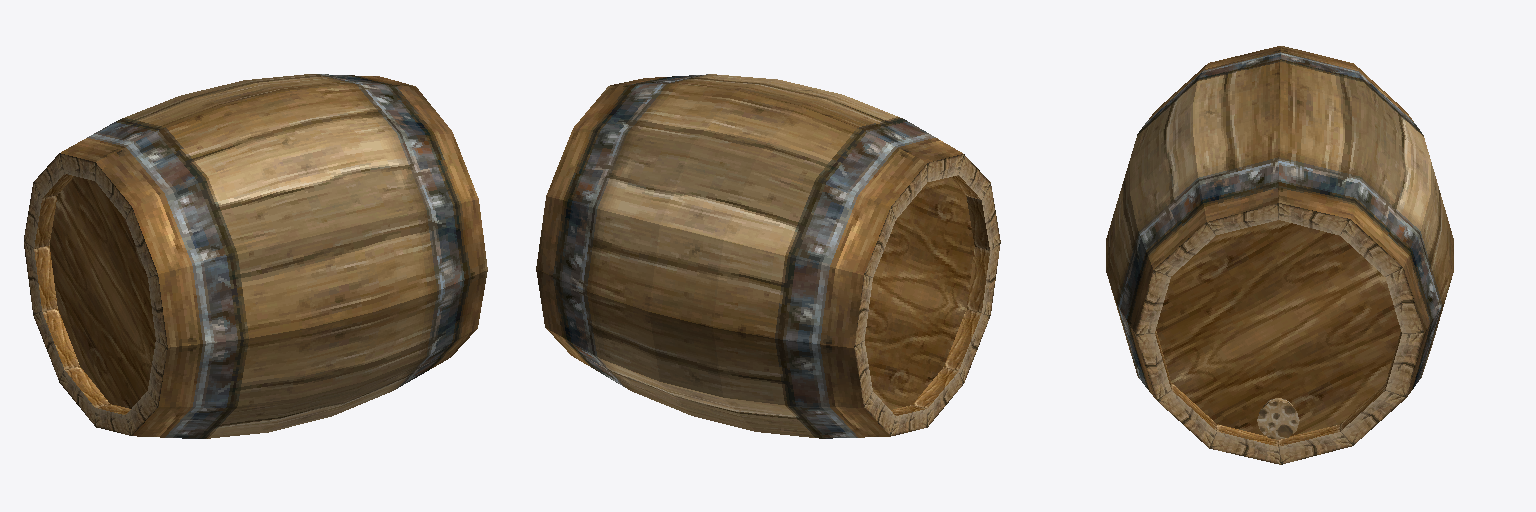
3 renders of one model, left to right at view 1: azimuth 30°, elevation 25°; view 2: azimuth 150°, elevation 25°; view 3: azimuth 270°, elevation 25°, orthographic.
Visible parts, largest first — view 1: beerkeg02.m2; view 2: beerkeg02.m2; view 3: beerkeg02.m2.
Part boxes in pixels (left/top/right/bottom): beerkeg02.m2: left=24, top=74, right=487, bottom=438; beerkeg02.m2: left=536, top=74, right=1000, bottom=438; beerkeg02.m2: left=1106, top=46, right=1453, bottom=464.
Bounding box in the file's own units: 1.35 × 1.27 × 1.27.
1 materials, 1 textured.